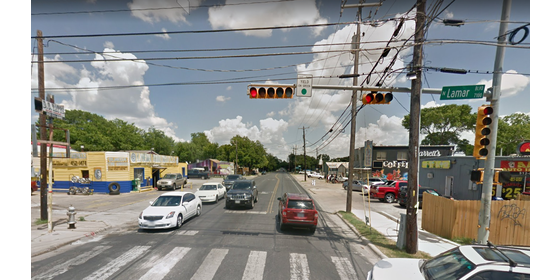left turn yield on green sign: (296, 71, 314, 100)
street name sign: (439, 82, 487, 102)
